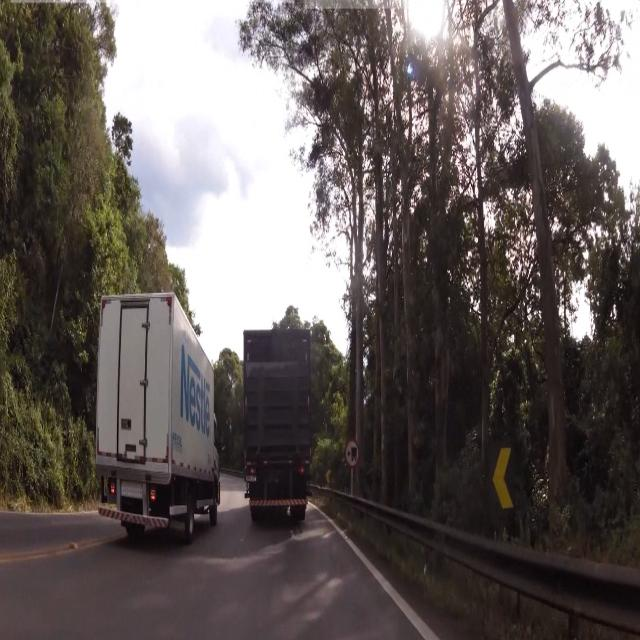Del: (488, 441, 520, 521)
R-27: (345, 435, 361, 472)
